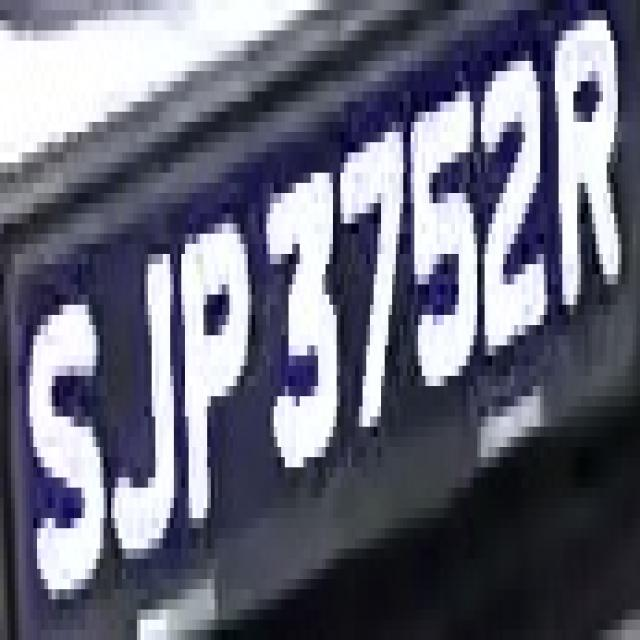2: (477, 41, 548, 386)
3: (256, 162, 340, 488)
5: (400, 61, 484, 396)
7: (329, 102, 407, 447)
J: (96, 213, 178, 569)
P: (170, 183, 259, 508)
R: (547, 21, 629, 346)
S: (18, 274, 111, 620)
